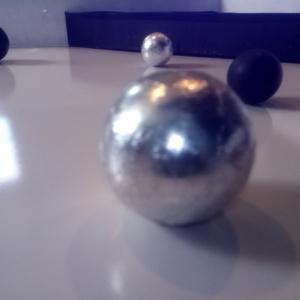zone: (66, 10, 300, 64)
